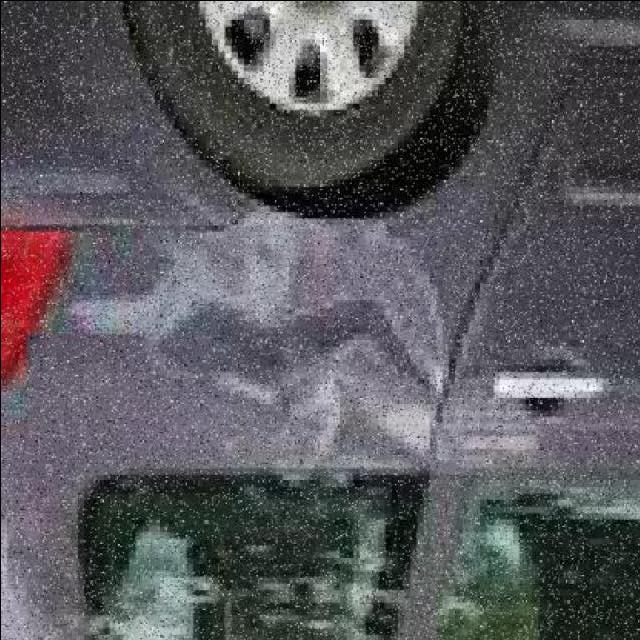quaterpanel-dent: (51, 122, 461, 468)
